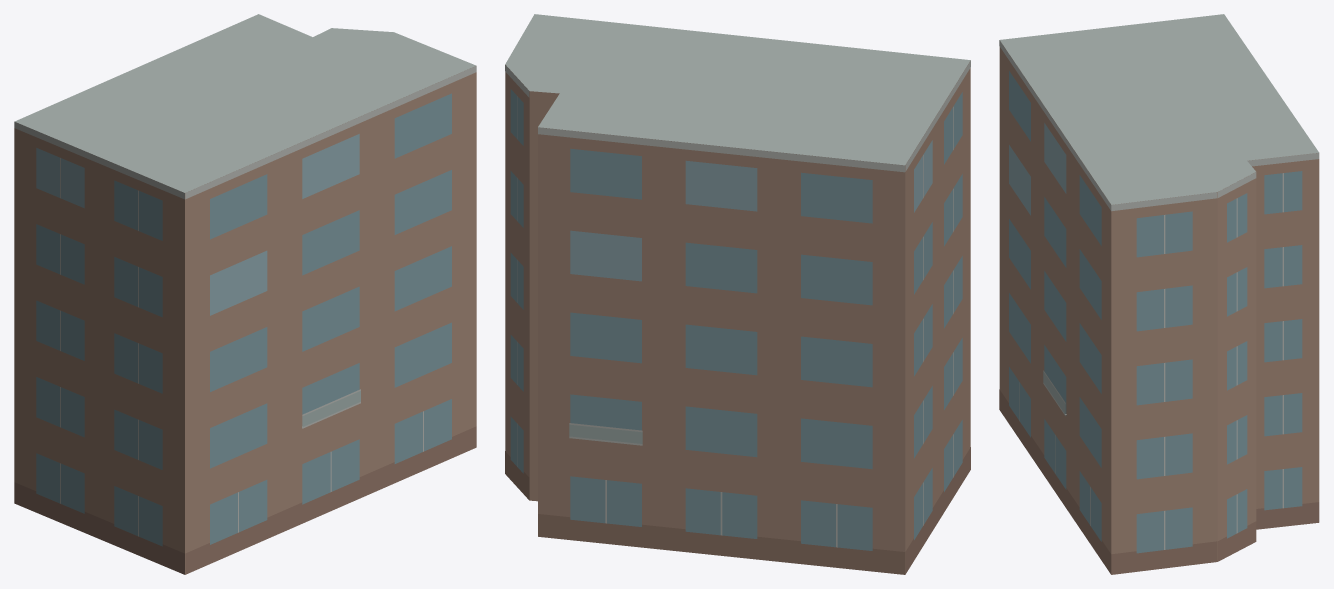
The model's file is survey-upis-33025843.glb.
3 renders of one model, left to right at view 1: azimuth 30°, elevation 25°; view 2: azimuth 150°, elevation 25°; view 3: azimuth 270°, elevation 25°, orthographic. The views are drawn at different scales.
Parts seen in each view (by area): view 1: survey-upis-33025843.tmp; view 2: survey-upis-33025843.tmp; view 3: survey-upis-33025843.tmp.
Boxes of the visible parts, <box> form: survey-upis-33025843.tmp: <box>14,14,476,574</box>; survey-upis-33025843.tmp: <box>505,14,970,574</box>; survey-upis-33025843.tmp: <box>999,14,1319,574</box>.
Size of the model in its own units: 15.89 by 14.35 by 11.25.
